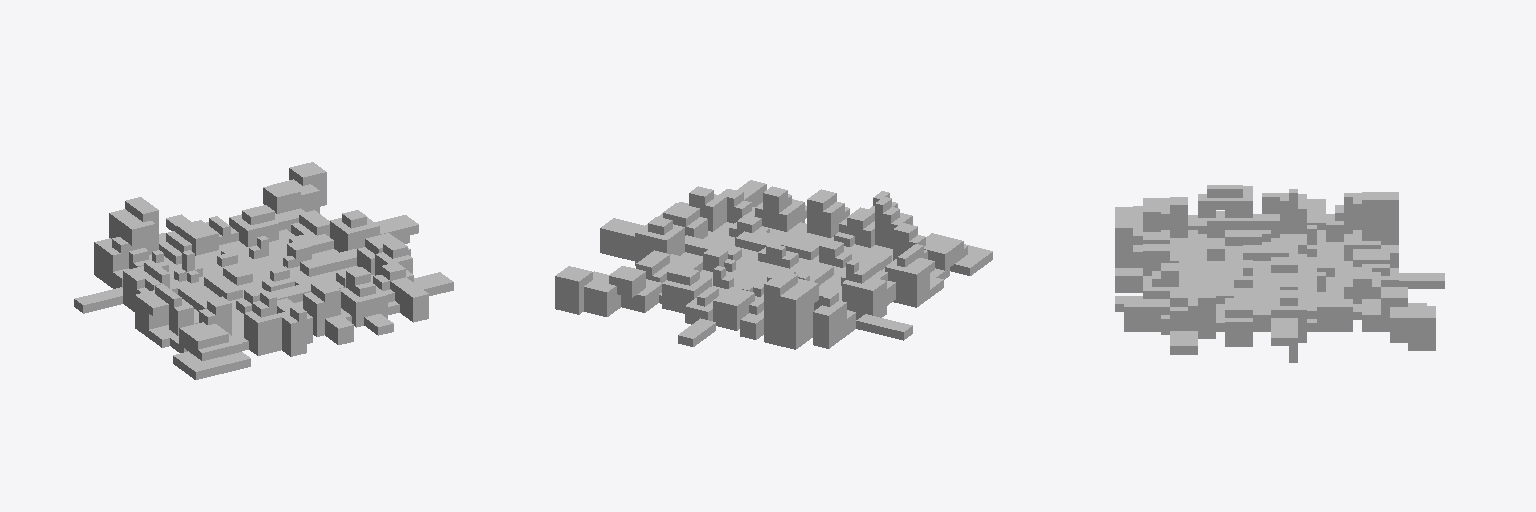
The model's file is camp.obj.
3 views of the same model, side by side, from view 1: azimuth 30°, elevation 25°; view 2: azimuth 150°, elevation 25°; view 3: azimuth 270°, elevation 25° (orthographic).
Size of the model in its own units: 40 by 7 by 36.